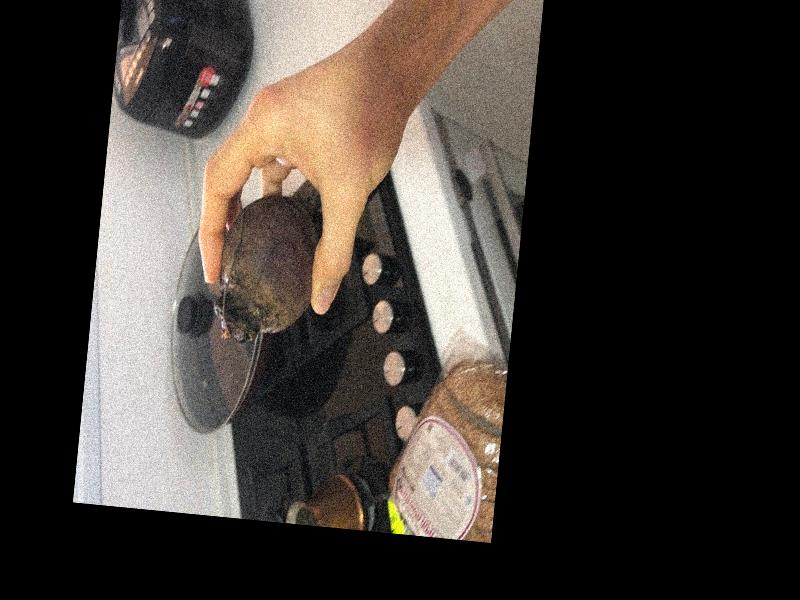Beet: (212, 181, 322, 349)
